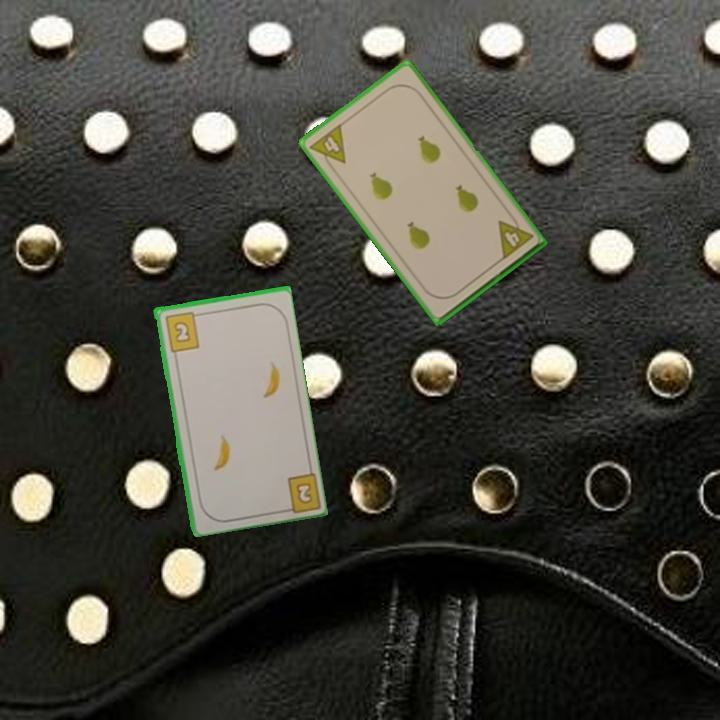2b: (277, 468, 321, 515), (161, 308, 203, 354)
4p: (306, 120, 349, 174), (494, 210, 536, 263)
